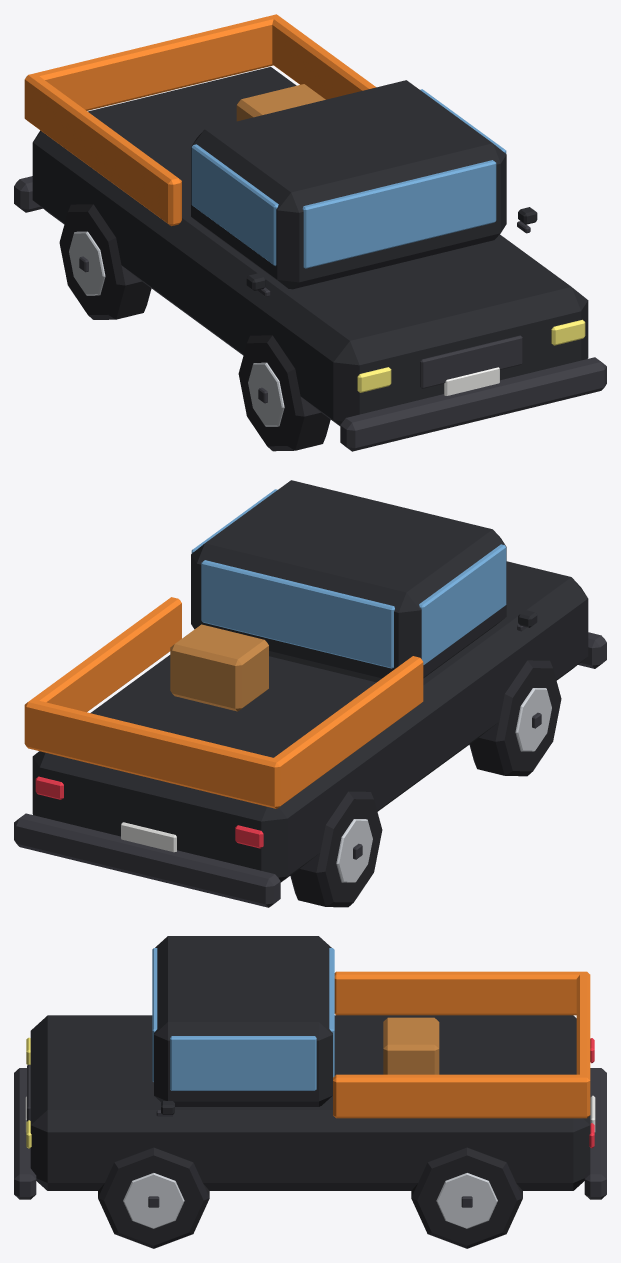
Rendered from BlackPickupTruck.fbx.
The picture shows the model from 3 angles, top to bottom: view 1: azimuth 30°, elevation 25°; view 2: azimuth 150°, elevation 25°; view 3: azimuth 270°, elevation 25°; orthographic projection. The views are drawn at different scales.
Visible parts, largest first — view 1: BlackPickupTruck, BlackPickupTruck_WheelBR, BlackPickupTruck_WheelFR; view 2: BlackPickupTruck, BlackPickupTruck_WheelBR, BlackPickupTruck_WheelFR; view 3: BlackPickupTruck, BlackPickupTruck_WheelBL, BlackPickupTruck_WheelFL.
Part boxes in pixels (x1,y1,x2,y2): BlackPickupTruck: [14, 14, 606, 451]; BlackPickupTruck_WheelBR: [59, 204, 151, 319]; BlackPickupTruck_WheelFR: [238, 335, 330, 451]; BlackPickupTruck: [14, 480, 606, 907]; BlackPickupTruck_WheelBR: [290, 791, 382, 907]; BlackPickupTruck_WheelFR: [469, 660, 561, 776]; BlackPickupTruck: [14, 936, 606, 1199]; BlackPickupTruck_WheelBL: [411, 1147, 522, 1248]; BlackPickupTruck_WheelFL: [98, 1147, 209, 1248].
Size of the model in its own units: 5.15 by 4.25 by 10.6.
1 material, 1 textured.
